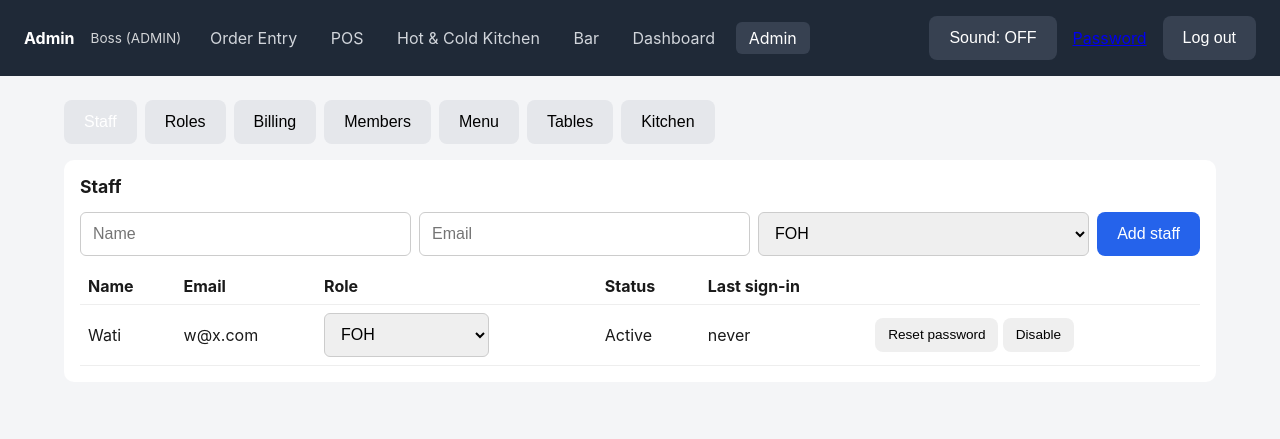
Test: admin page › lists staff and shows a new temporary password once
The image size is (1280, 439).
Expected: the text "Wati" is shown, [80, 304, 176, 365]
Type "Budi" into the field with placeholder "Name" at [246, 234], box [80, 212, 411, 256]
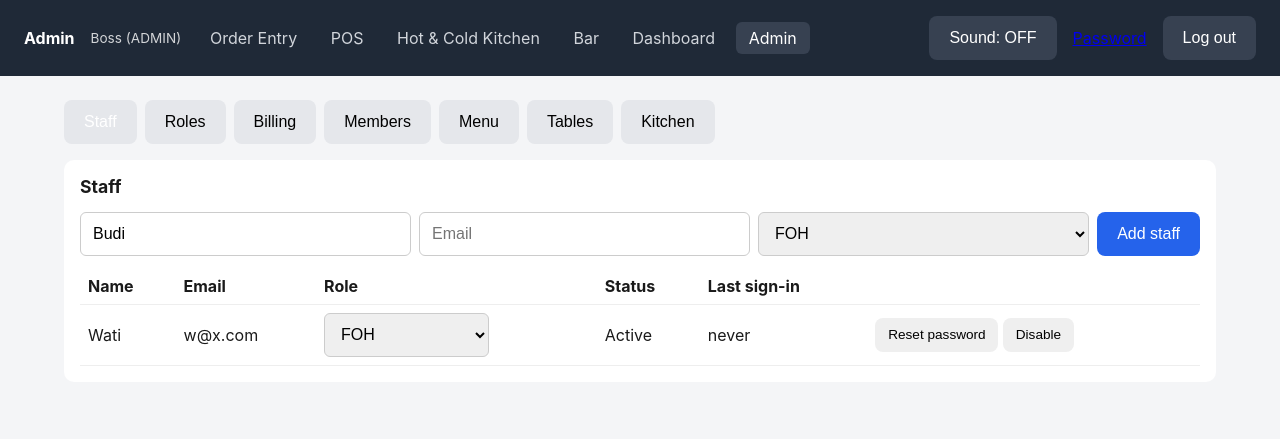
Type "b@x.com" into the field with placeholder "Email" at [584, 234], box [419, 212, 750, 256]
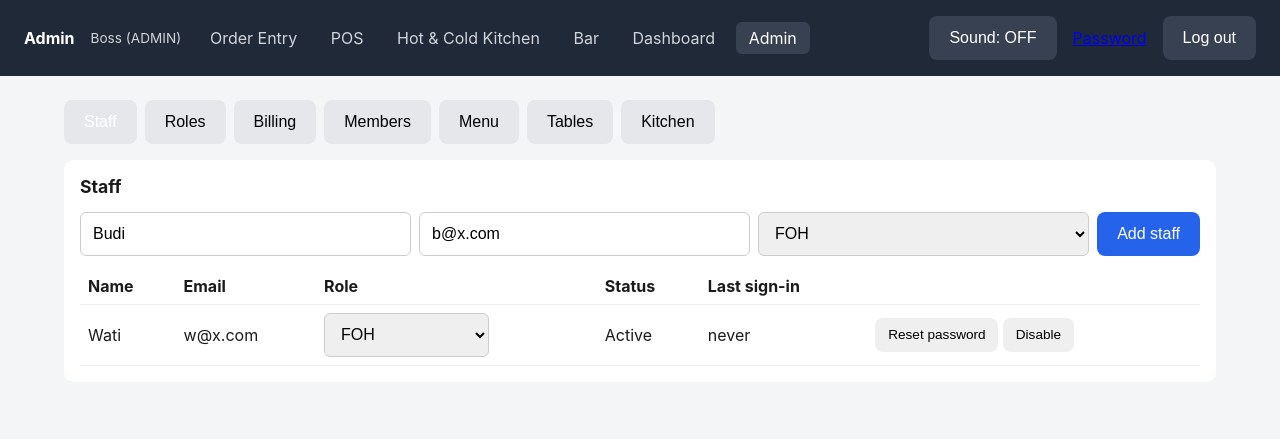
Click the button "Add staff" at [1149, 234], box [1097, 212, 1200, 256]
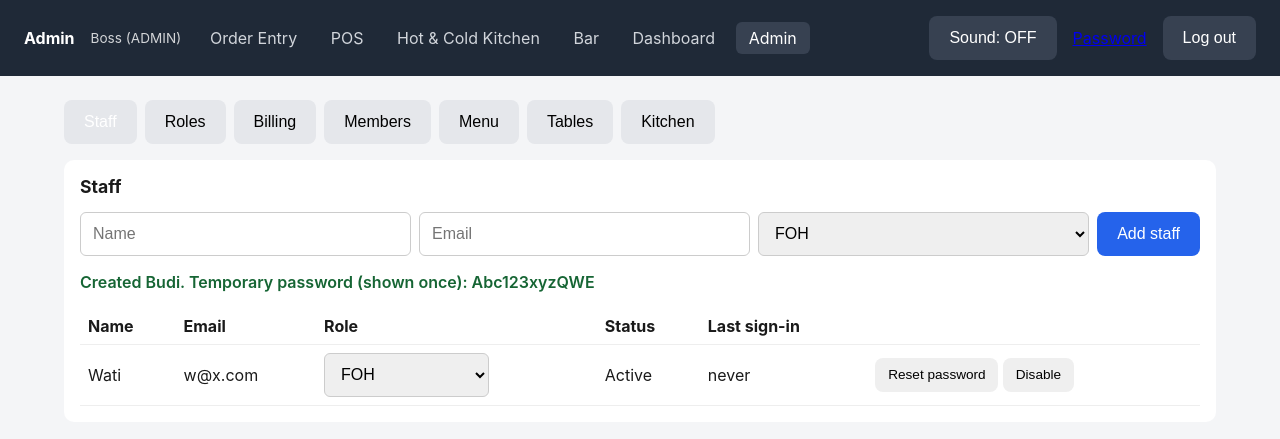
Result: the text "Created Budi. Temporary password (shown once): Abc123xyzQWE" is shown at [80, 272, 595, 292]
